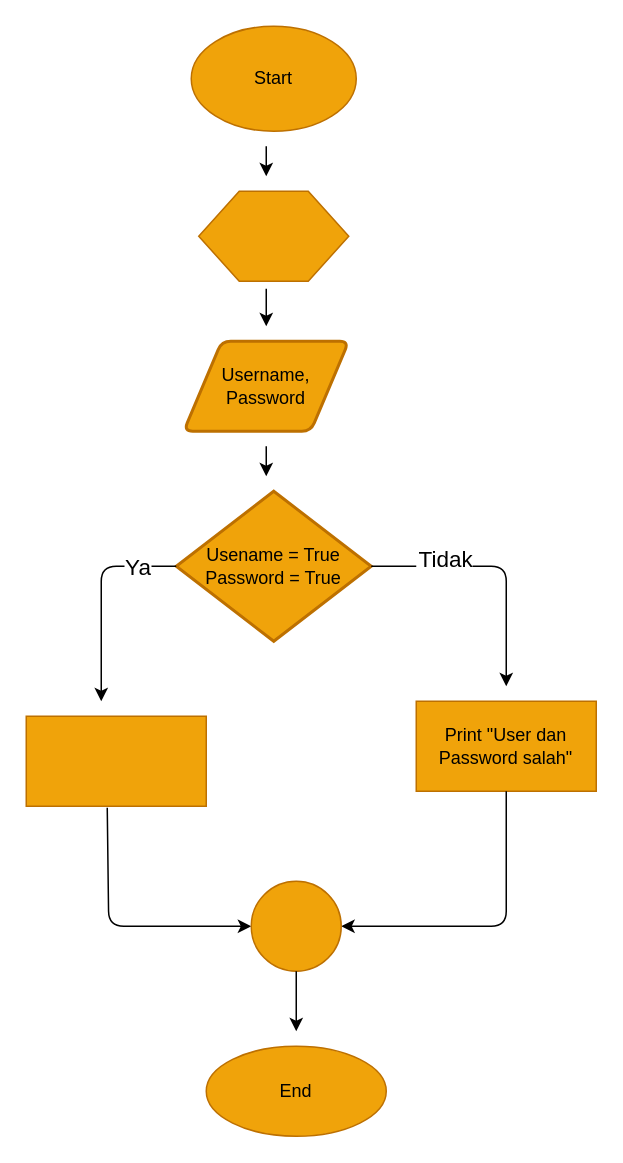
The diagram is 623 pixels wide and 1163 high, and some of its shapes have lost their labels. The shapes that lost their labels are listed below. From the top down, each one's centre as x and y in pixels, then its label:
pixel 273 235: String : Username, Password
pixel 115 760: Print " Anda berhasil masuk ke sistem"
